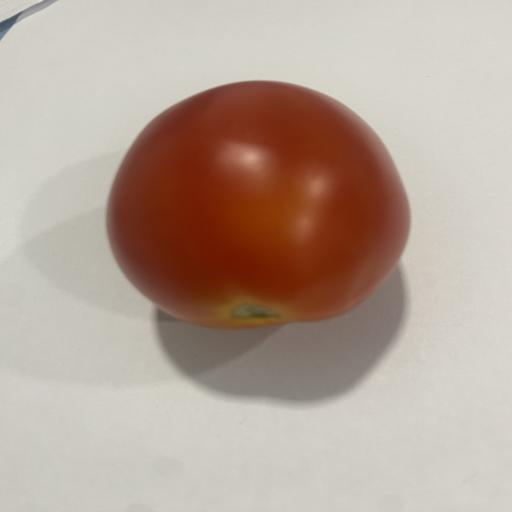ripe: (107, 81, 410, 328)
